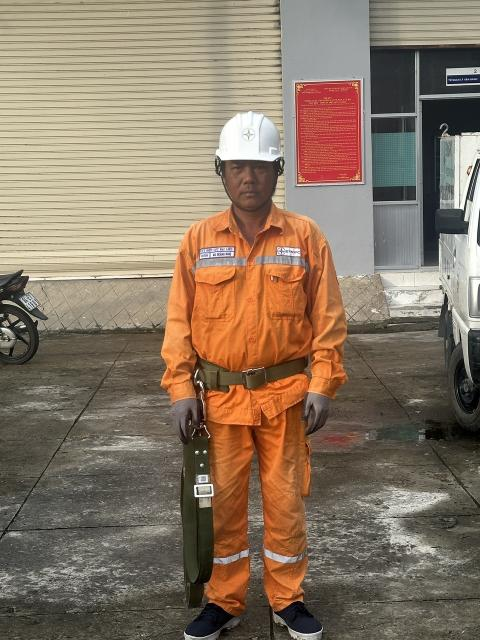gloves: (162, 395, 208, 469), (300, 388, 337, 449)
harness: (175, 346, 325, 397)
helmet: (197, 98, 301, 182)
shoes: (163, 594, 256, 640), (263, 597, 337, 640)
